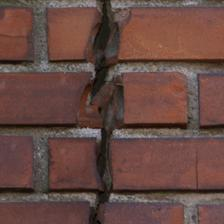Crack: (42, 1, 88, 220)
